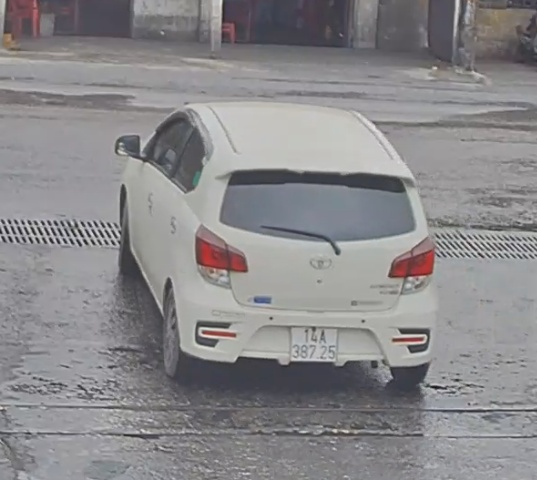vehicle plate: (283, 322, 343, 363)
